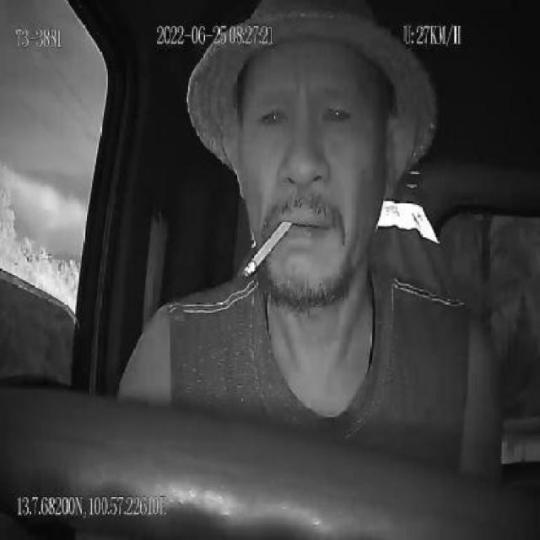smoking: (243, 219, 293, 281)
